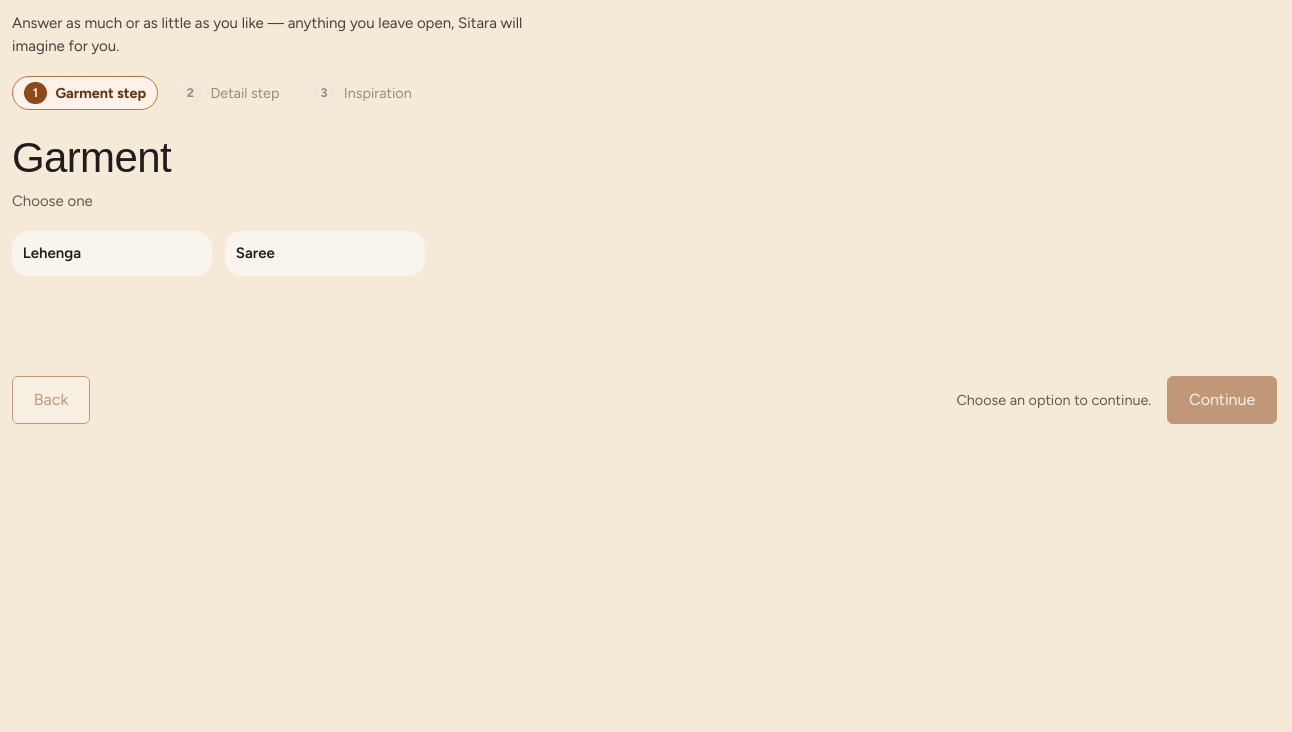
Test: QuestionnaireWizard › applies show/hide rules and restricts options immediately
The image size is (1292, 732).
Click the radio button labelled "Saree".
click(325, 254)  # box [225,231,425,276]
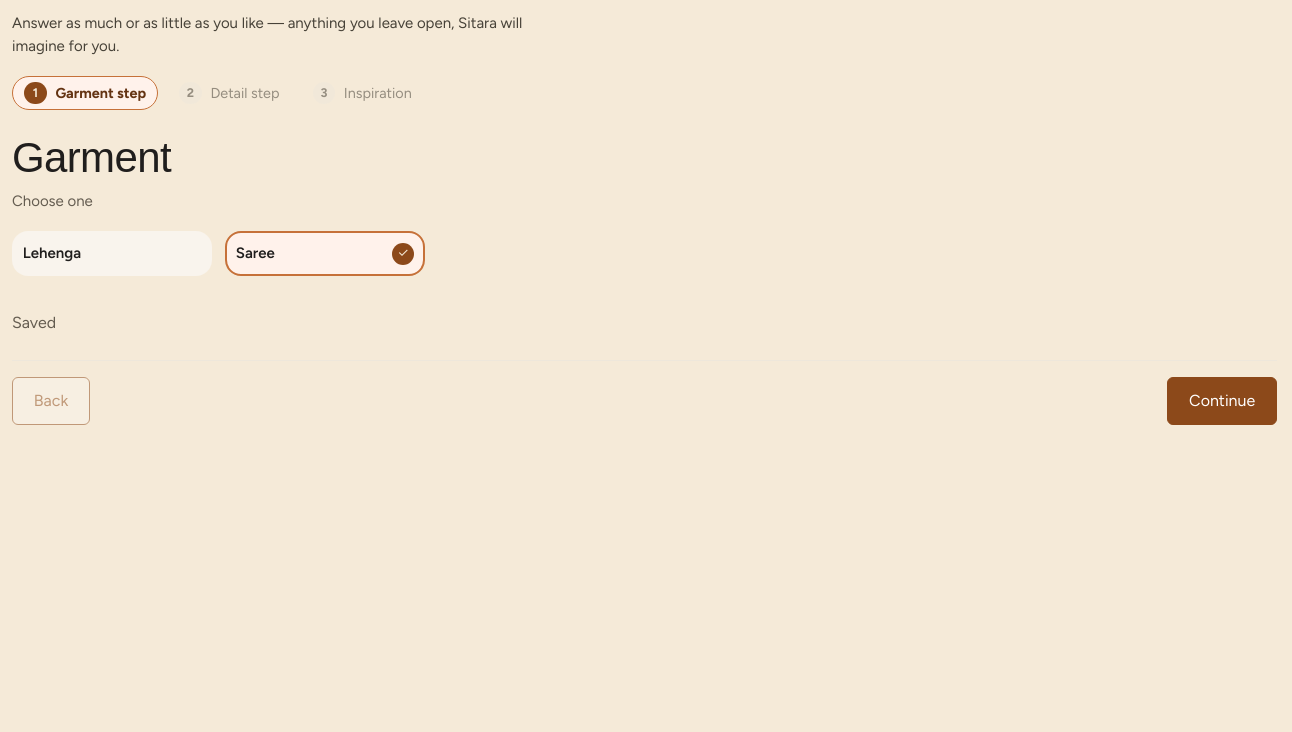
Check: the text "Saved" is shown, box [12,313,56,332]
Click the button "Continue".
click(1222, 401)  # box [1167,377,1277,425]
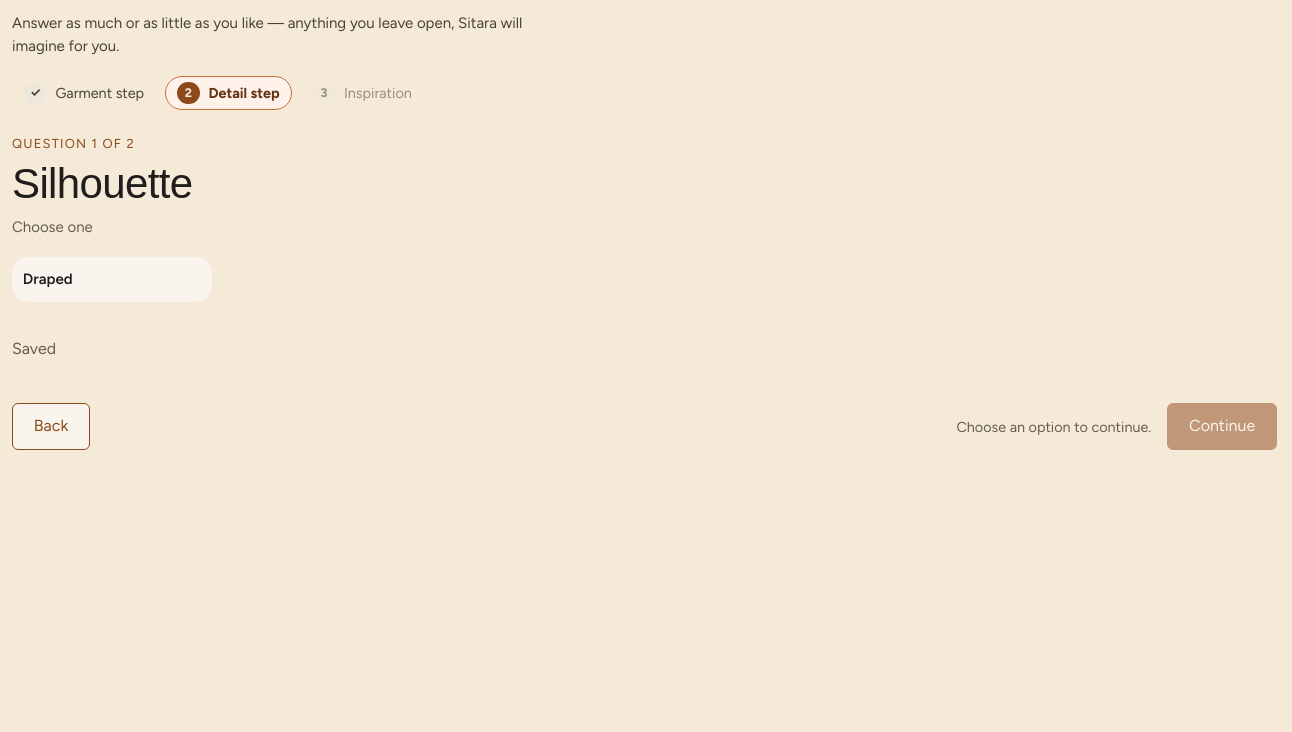
Check: the heading "Silhouette" is shown, box [12,160,192,207]
Check: the radio button labelled "Draped" is shown
Click the radio button labelled "Draped".
click(112, 280)  # box [12,257,212,302]
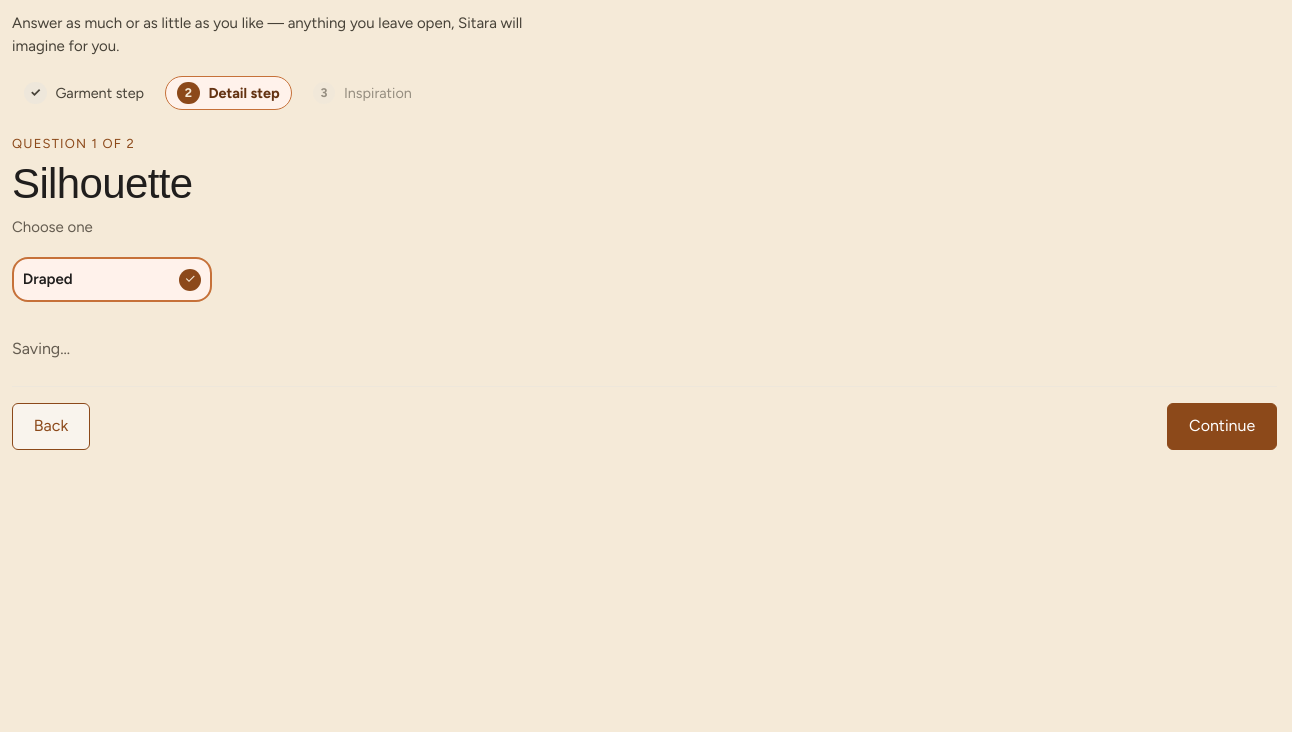
Click the button "Continue".
click(1222, 427)  # box [1167,403,1277,450]
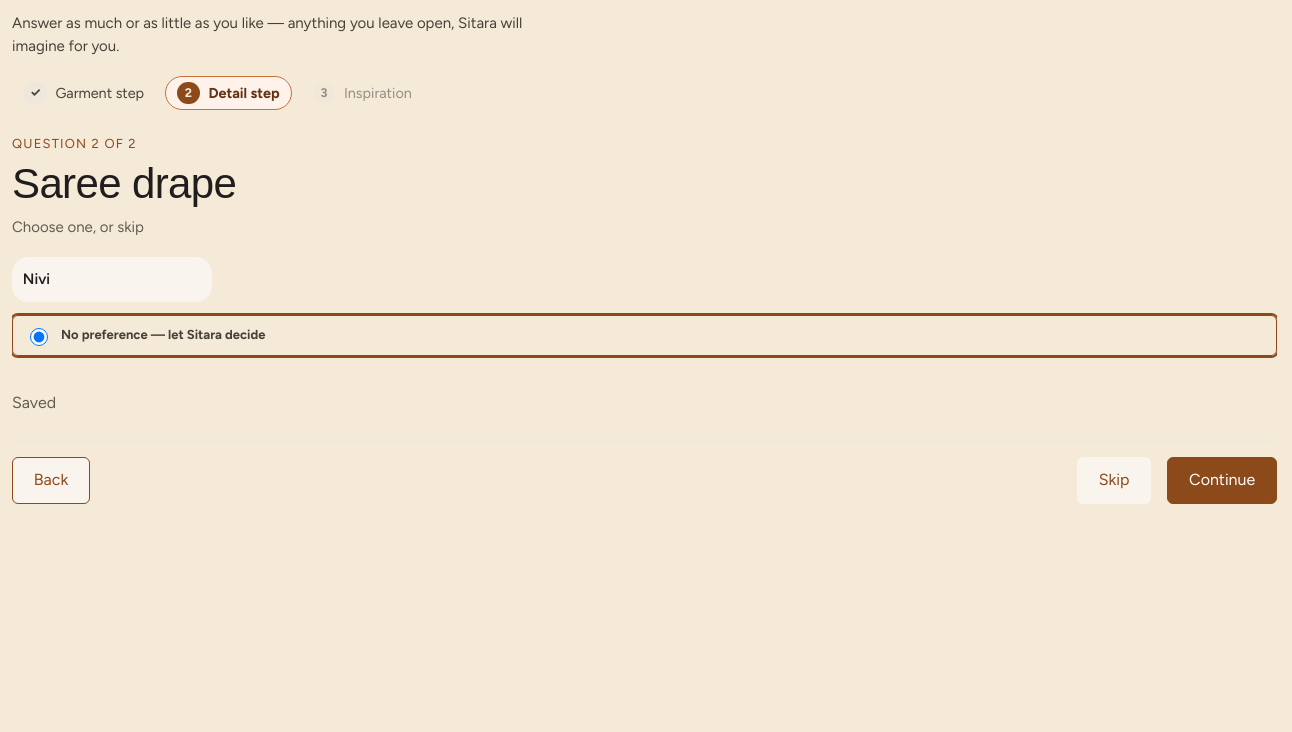
Check: the heading "Saree drape" is shown, box [12,160,236,207]
